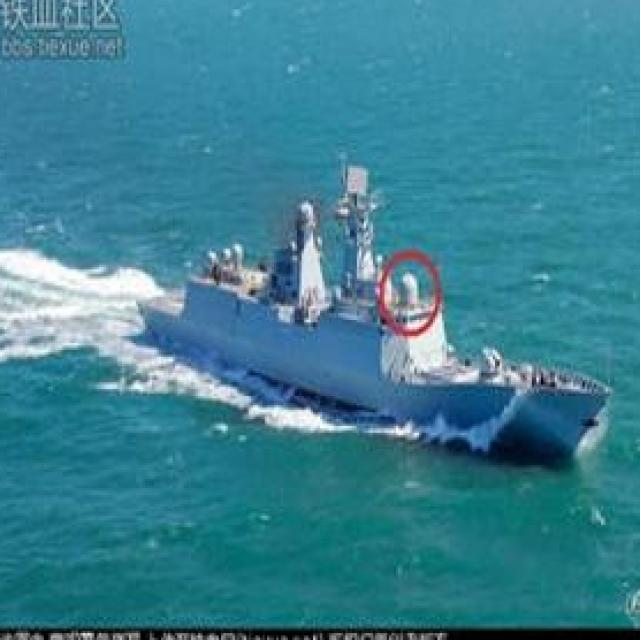navalvessels: (129, 156, 606, 458)
